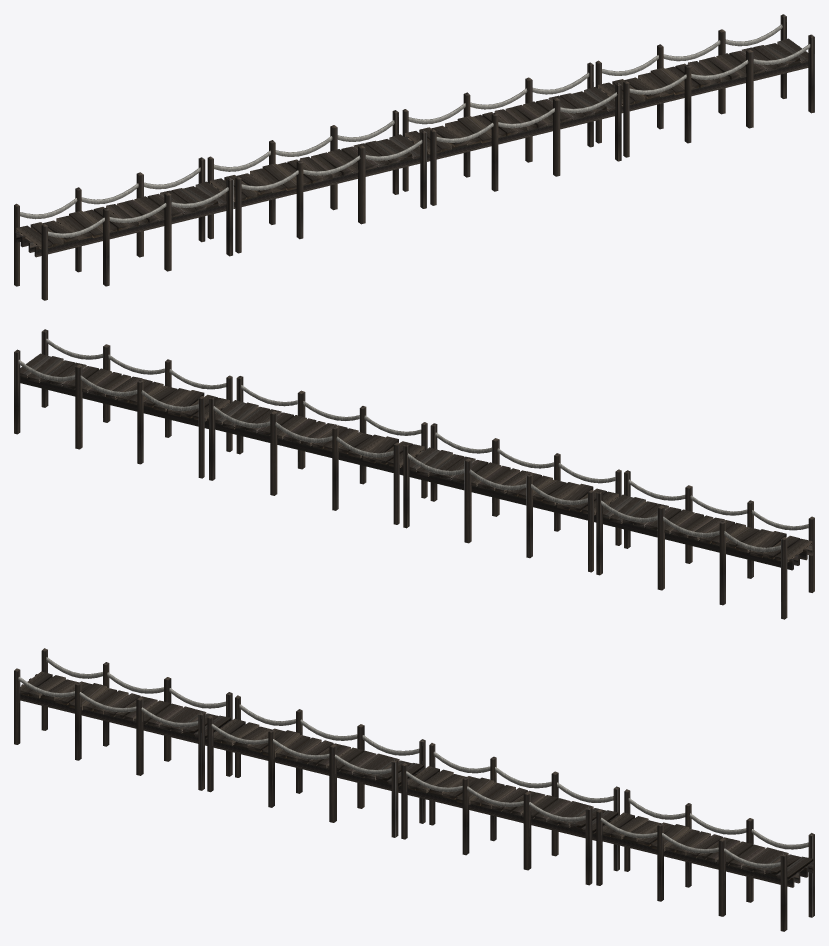
Rendered from ponte con corde.fbx.
3 renders of one model, top to bottom at view 1: azimuth 30°, elevation 25°; view 2: azimuth 150°, elevation 25°; view 3: azimuth 330°, elevation 25°, orthographic.
Parts seen in each view (by area): view 1: prim0, prim6, prim10, prim4, prim8, prim2, prim5, prim11, prim1, prim7, prim3, prim9; view 2: prim0, prim6, prim10, prim4, prim1, prim9, prim7, prim3, prim2, prim8, prim11, prim5; view 3: prim10, prim6, prim0, prim4, prim8, prim11, prim5, prim2, prim9, prim1, prim7, prim3.
Boxes of the visible parts, x1,y1,x2,y2 form: prim0: [15, 181, 226, 257]; prim6: [405, 87, 615, 161]; prim10: [598, 38, 808, 113]; prim4: [210, 134, 420, 208]; prim8: [430, 83, 621, 205]; prim2: [41, 177, 233, 300]; prim5: [235, 130, 426, 253]; prim11: [623, 34, 814, 157]; prim1: [14, 157, 205, 286]; prim7: [402, 62, 593, 191]; prim3: [207, 110, 398, 239]; prim9: [595, 14, 786, 143]; prim0: [603, 494, 813, 570]; prim6: [215, 400, 424, 475]; prim10: [20, 353, 229, 428]; prim4: [409, 447, 618, 522]; prim1: [596, 490, 787, 619]; prim9: [14, 349, 204, 478]; prim7: [209, 396, 399, 524]; prim3: [403, 443, 593, 572]; prim2: [624, 470, 814, 592]; prim8: [236, 376, 427, 498]; prim11: [41, 329, 232, 451]; prim5: [430, 423, 621, 545]; prim10: [602, 812, 814, 887]; prim6: [407, 766, 618, 840]; prim0: [20, 671, 230, 745]; prim4: [213, 718, 424, 793]; prim8: [401, 763, 592, 885]; prim11: [596, 809, 787, 931]; prim5: [207, 715, 398, 837]; prim2: [14, 668, 204, 790]; prim9: [624, 789, 814, 917]; prim1: [41, 648, 232, 776]; prim7: [429, 743, 619, 871]; prim3: [235, 695, 425, 823].
Bounding box in the file's own units: 7553 × 776 × 535.
2 materials, 2 textured.
